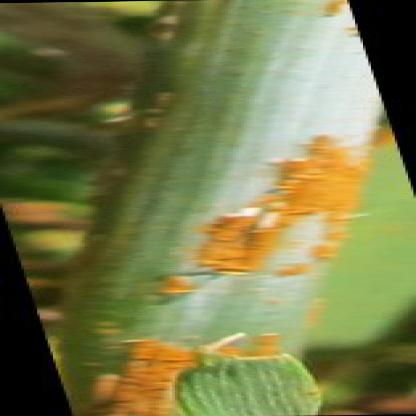wheat Stem Rust: (228, 126, 394, 312), (70, 343, 261, 416), (110, 264, 210, 313)
